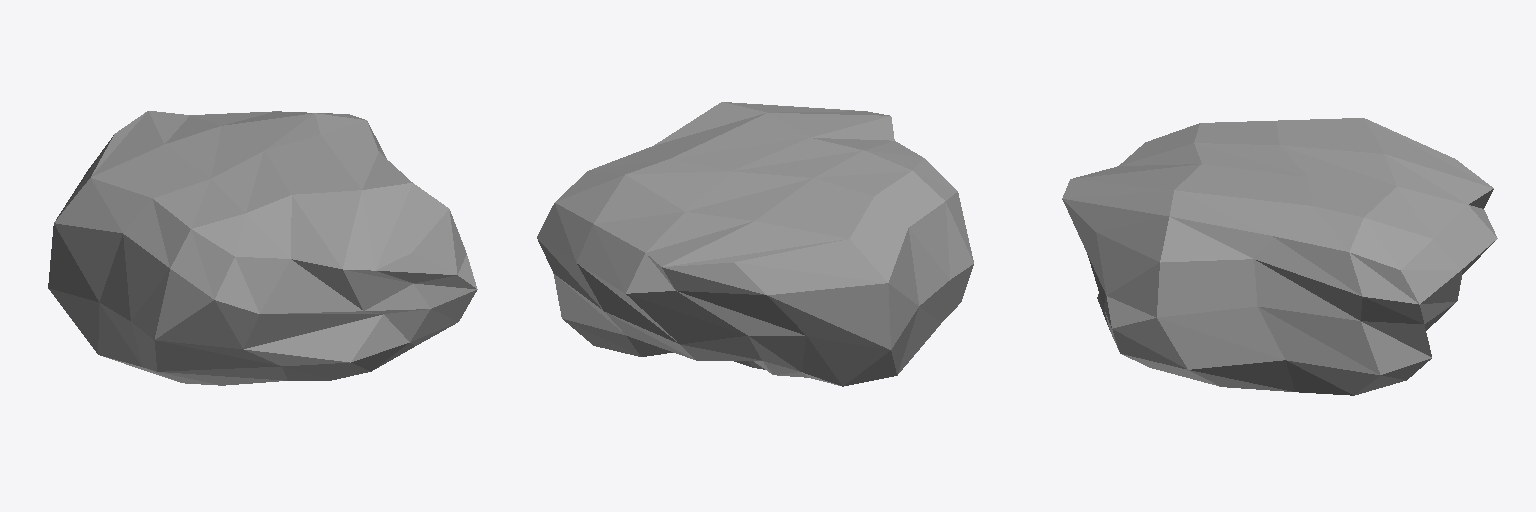
File: Rock1.obj
3 views of the same model, side by side, from view 1: azimuth 30°, elevation 25°; view 2: azimuth 150°, elevation 25°; view 3: azimuth 270°, elevation 25° (orthographic).
Size of the model in its own units: 3.18 by 1.68 by 3.63.